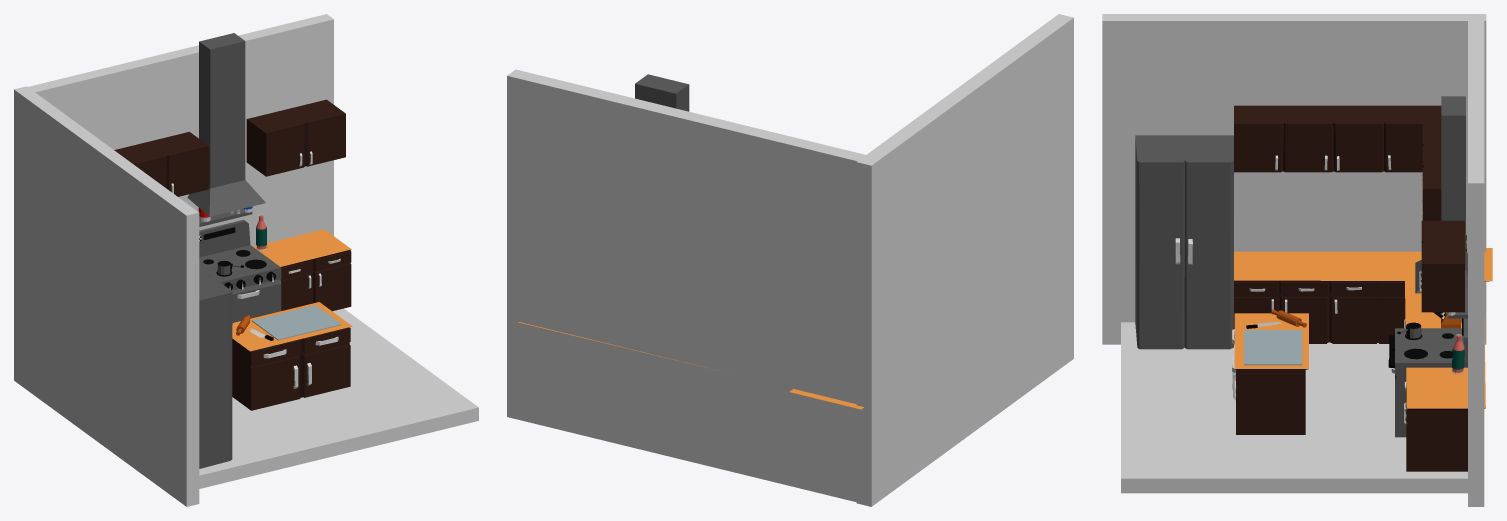
3 renders of one model, left to right at view 1: azimuth 30°, elevation 25°; view 2: azimuth 150°, elevation 25°; view 3: azimuth 270°, elevation 25°, orthographic. The views are drawn at different scales.
Parts seen in each view (by area): view 1: group9585808, group1810159463, group107145946, group1348253054, group1000109285, group536980032, group384672652, group1142142446, group900006215, group1955243732, group1999118543; view 2: group1810159463, group9585808, group1000109285; view 3: group9585808, group107145946, group536980032, group1913738476, group2142097961, group1810159463, group1142142446, group1348253054, group384672652, group1000109285, group900006215, group1999118543 (+2 smaller).
Boxes of the visible parts, <box> form: group9585808: <box>14,86,199,506</box>; group1810159463: <box>28,14,333,246</box>; group107145946: <box>199,308,478,488</box>; group1348253054: <box>232,302,352,410</box>; group1000109285: <box>187,33,265,216</box>; group536980032: <box>199,267,232,468</box>; group384672652: <box>246,99,345,176</box>; group1142142446: <box>253,229,351,311</box>; group900006215: <box>199,219,281,322</box>; group1955243732: <box>114,131,208,196</box>; group1999118543: <box>252,305,341,340</box>; group1810159463: <box>507,69,865,502</box>; group9585808: <box>856,14,1073,506</box>; group1000109285: <box>635,74,689,111</box>; group9585808: <box>1102,14,1486,344</box>; group107145946: <box>1121,322,1467,493</box>; group536980032: <box>1135,135,1233,349</box>; group1913738476: <box>1234,248,1492,343</box>; group2142097961: <box>1234,105,1441,172</box>; group1810159463: <box>1468,21,1484,506</box>; group1142142446: <box>1405,279,1485,471</box>; group1348253054: <box>1234,313,1308,434</box>; group384672652: <box>1421,220,1464,312</box>; group1000109285: <box>1415,96,1467,293</box>; group900006215: <box>1395,318,1467,437</box>; group1999118543: <box>1244,330,1302,365</box>.
Bounding box in the file's own units: 1.95 × 1.81 × 1.9.
